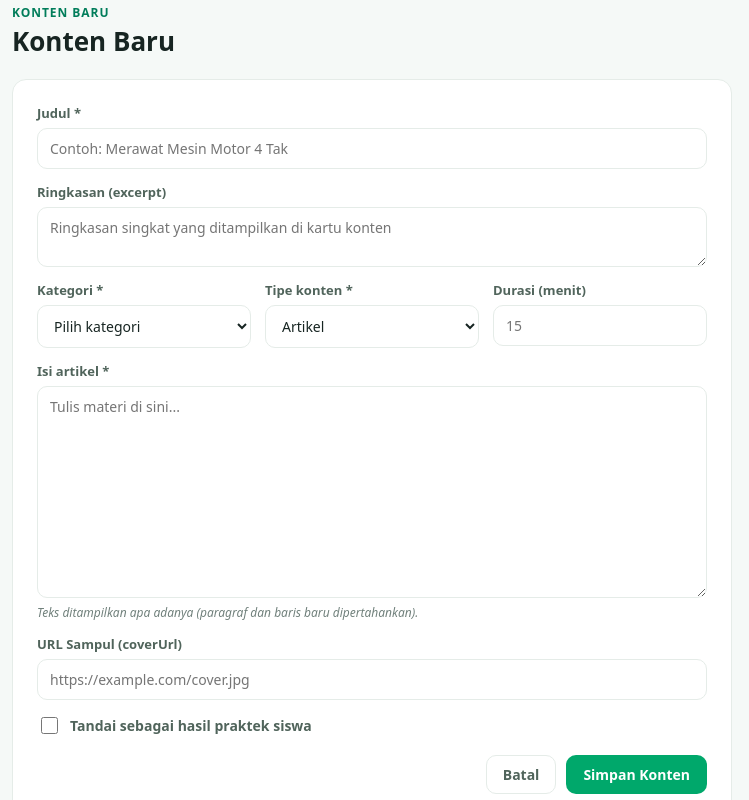
it: AdminContentFormPage › switches to a video URL field when type is video
Select "Video" in the dropdown labelled "Tipe konten *" at (372, 327), box [265, 305, 479, 348]
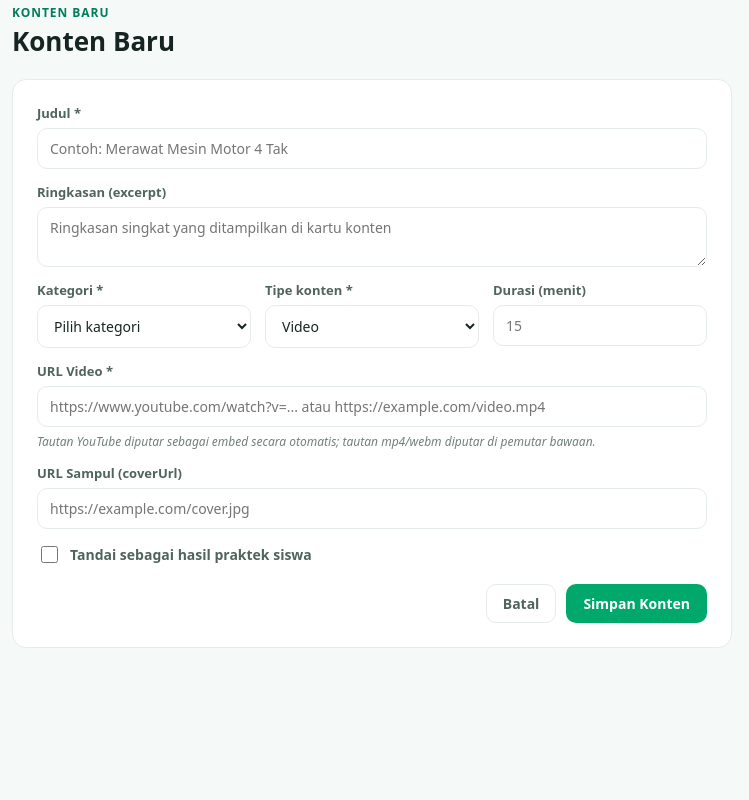
expect the field labelled "URL Video" is shown: met, box [37, 386, 707, 427]
expect the text "Isi artikel" is gone: met
